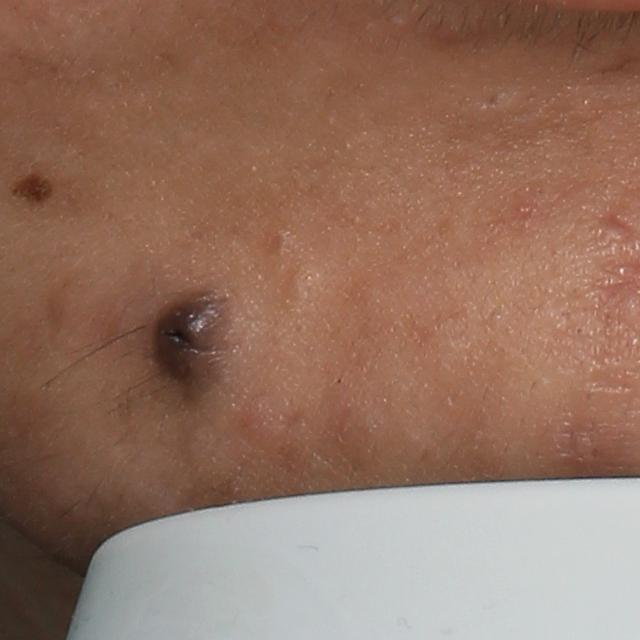atrophic_scar: (597, 211, 638, 233)
nevus: (132, 287, 233, 400), (1, 169, 61, 213)
